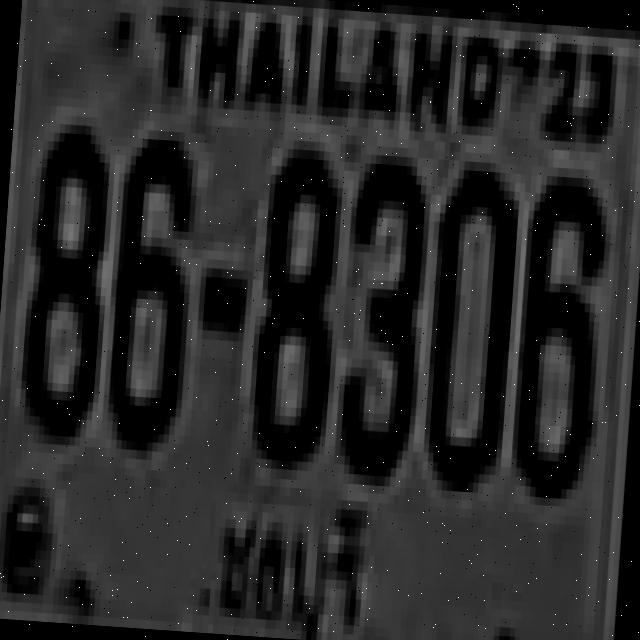0: (418, 159, 514, 483)
3: (333, 144, 429, 477)
6: (506, 165, 606, 490), (100, 128, 195, 444)
8: (246, 138, 340, 462), (12, 113, 108, 428)
Chonburi: (199, 490, 377, 640)
